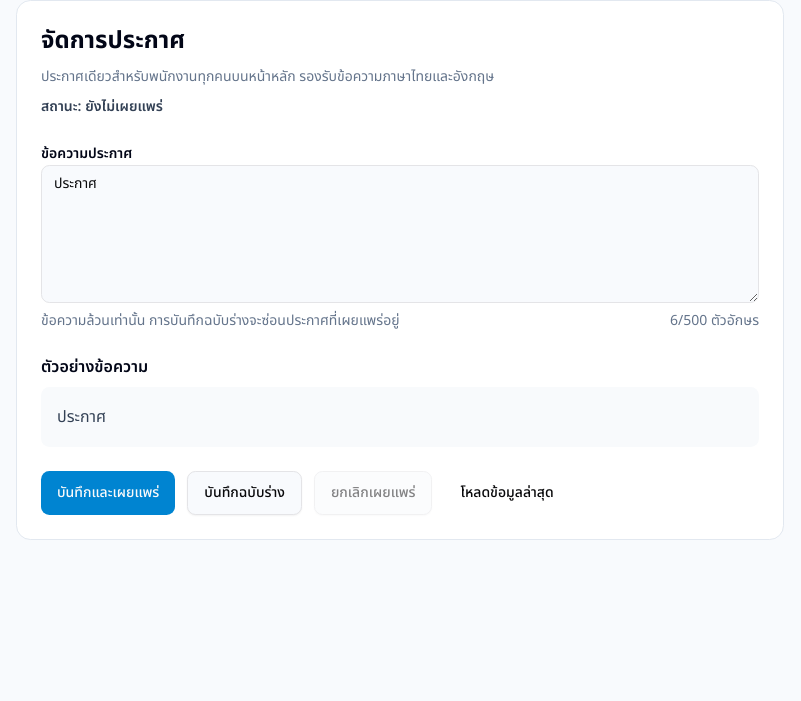
Test: Announcement presentation › retains unsaved text after a conflict and confirms before reloading
Replace the text in the text box labelled "ข้อความประกาศ" with "ฉบับของฉัน": [400, 234] box [41,165,759,303]
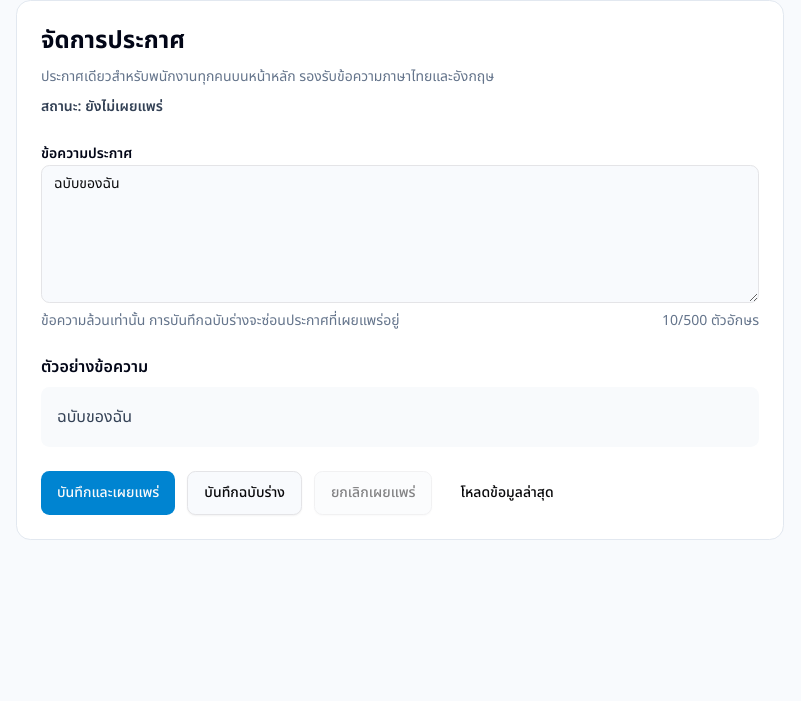
Click the button "บันทึกและเผยแพร่": [108, 493] box [41,471,175,515]
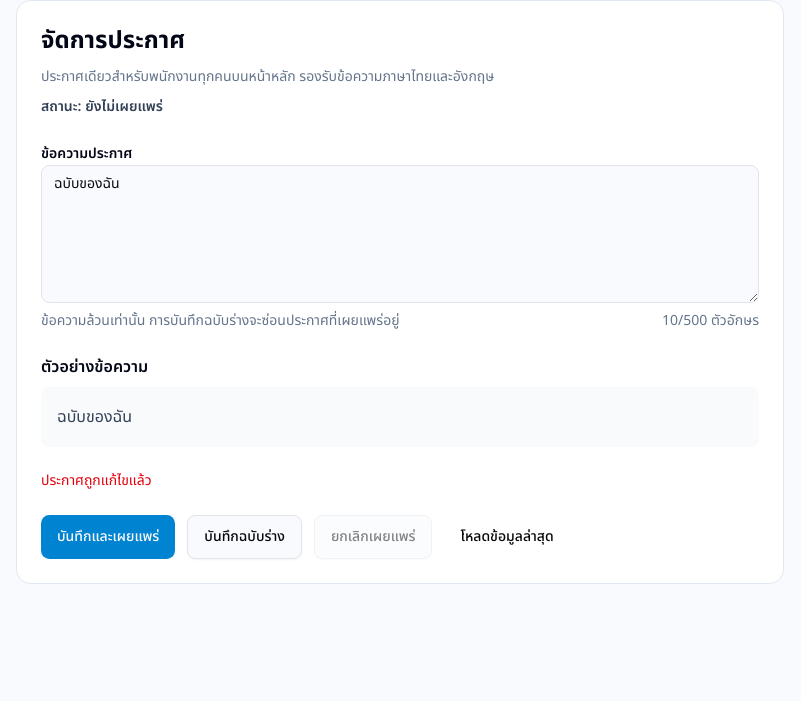
Expected: the message reads "ประกาศถูกแก้ไขแล้ว", [41,470,152,491]
Click the button "โหลดข้อมูลล่าสุด": [507, 537] box [444,515,570,559]
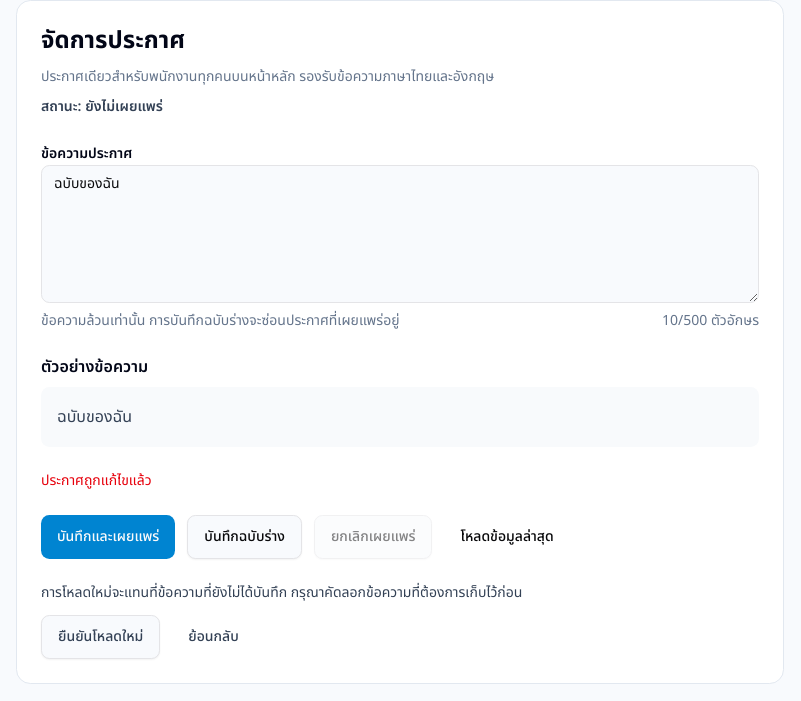
Click the button "ยืนยันโหลดใหม่": [101, 637] box [41,615,160,659]
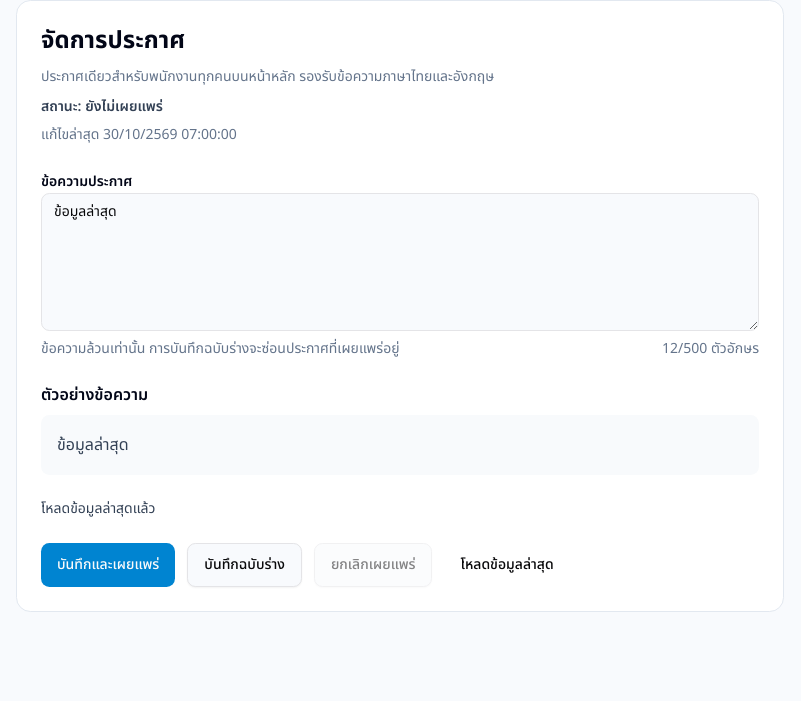
Expected: the text box labelled "ข้อความประกาศ" holds "ข้อมูลล่าสุด", [41,193,759,331]
